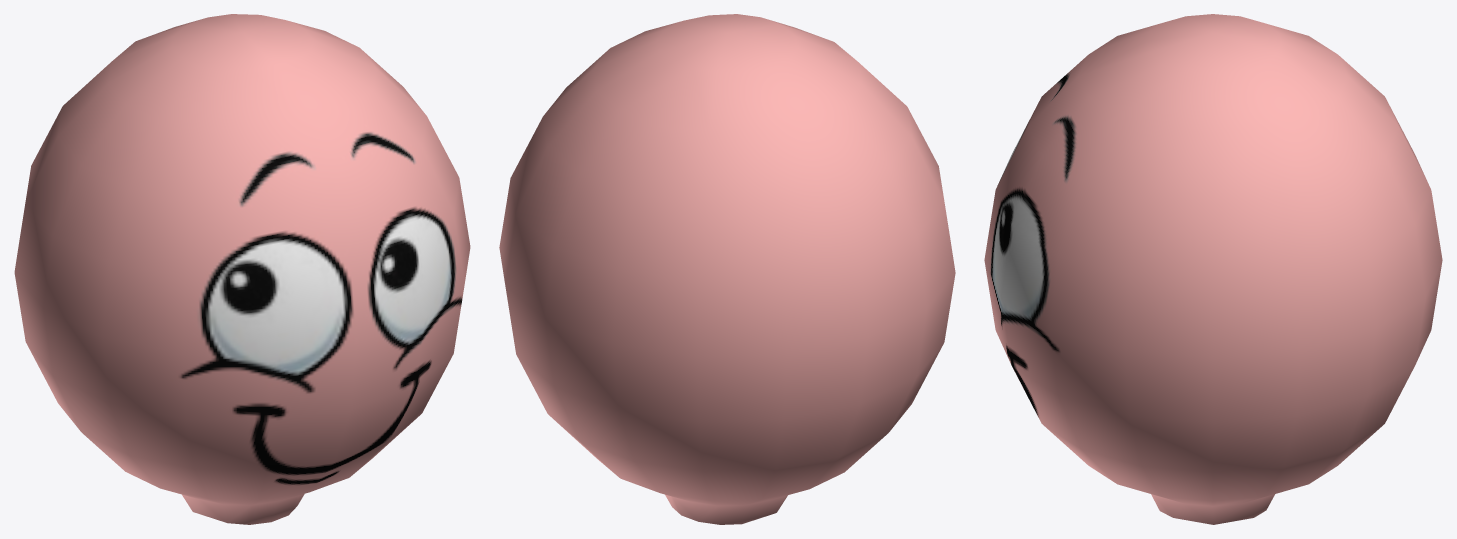
The model's file is head.fbx.
The picture shows the model from 3 angles, left to right: view 1: azimuth 30°, elevation 25°; view 2: azimuth 150°, elevation 25°; view 3: azimuth 270°, elevation 25°; orthographic projection.
Parts seen in each view (by area): view 1: head; view 2: head; view 3: head.
Boxes of the visible parts, x1=… form: head: x1=14, y1=14, x2=470, y2=524; head: x1=499, y1=14, x2=955, y2=524; head: x1=984, y1=14, x2=1442, y2=524.
Bounding box in the file's own units: 25.26 × 28.37 × 25.13.
